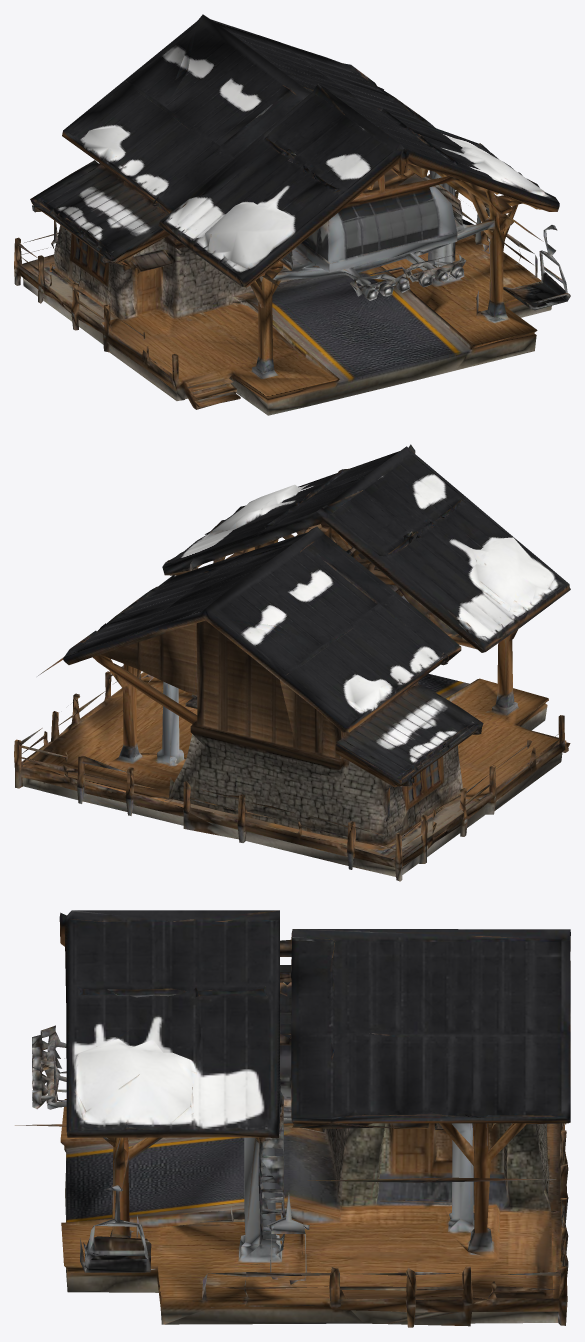
File: city_bolu_ski_lift_station.glb
3 renders of one model, top to bottom at view 1: azimuth 30°, elevation 25°; view 2: azimuth 150°, elevation 25°; view 3: azimuth 270°, elevation 25°, orthographic. The views are drawn at different scales.
Visible parts, largest first — view 1: Mesh1.0; view 2: Mesh1.0; view 3: Mesh1.0.
Part boxes in pixels (x1,y1,x2,y2): Mesh1.0: (14, 14, 570, 415); Mesh1.0: (14, 444, 570, 881); Mesh1.0: (15, 910, 570, 1327).
Size of the model in its own units: 7.1 by 4.2 by 7.05.
Materials: 1 (1 with a texture image).
